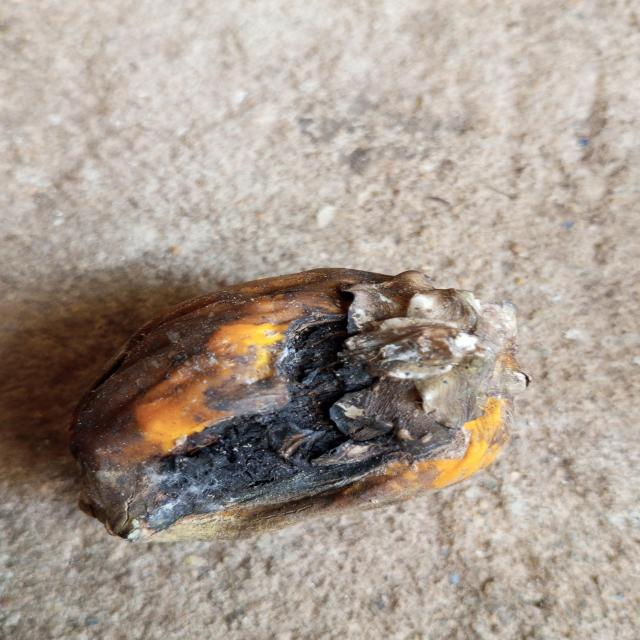damaged: (68, 268, 526, 546)
